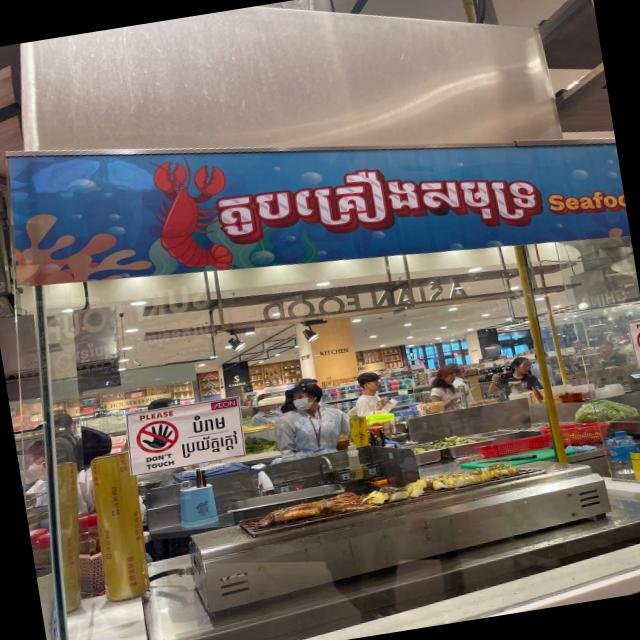Yolov11_80vkh: (207, 159, 546, 251), (179, 429, 241, 459), (187, 412, 230, 439)
